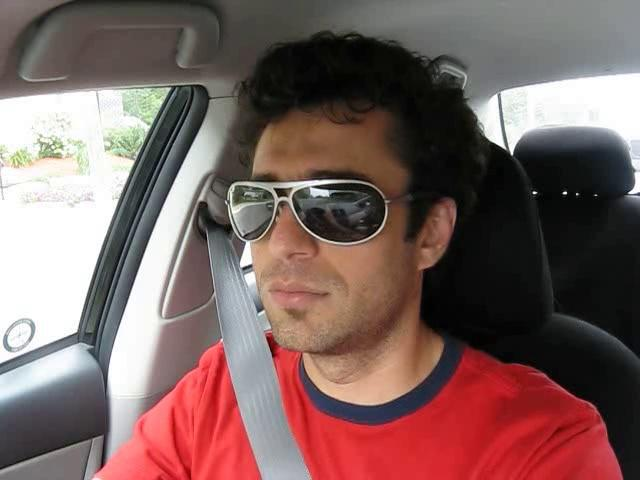no_yawn: (250, 275, 345, 318)
